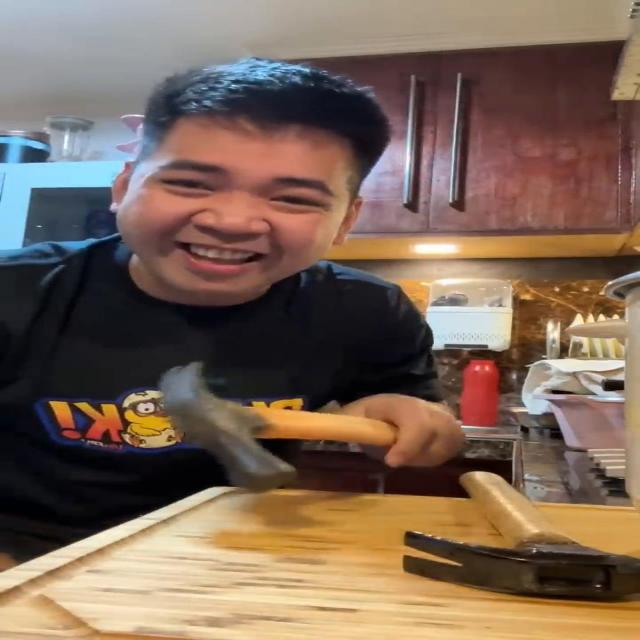hammer: (158, 362, 406, 493), (402, 471, 640, 605)
